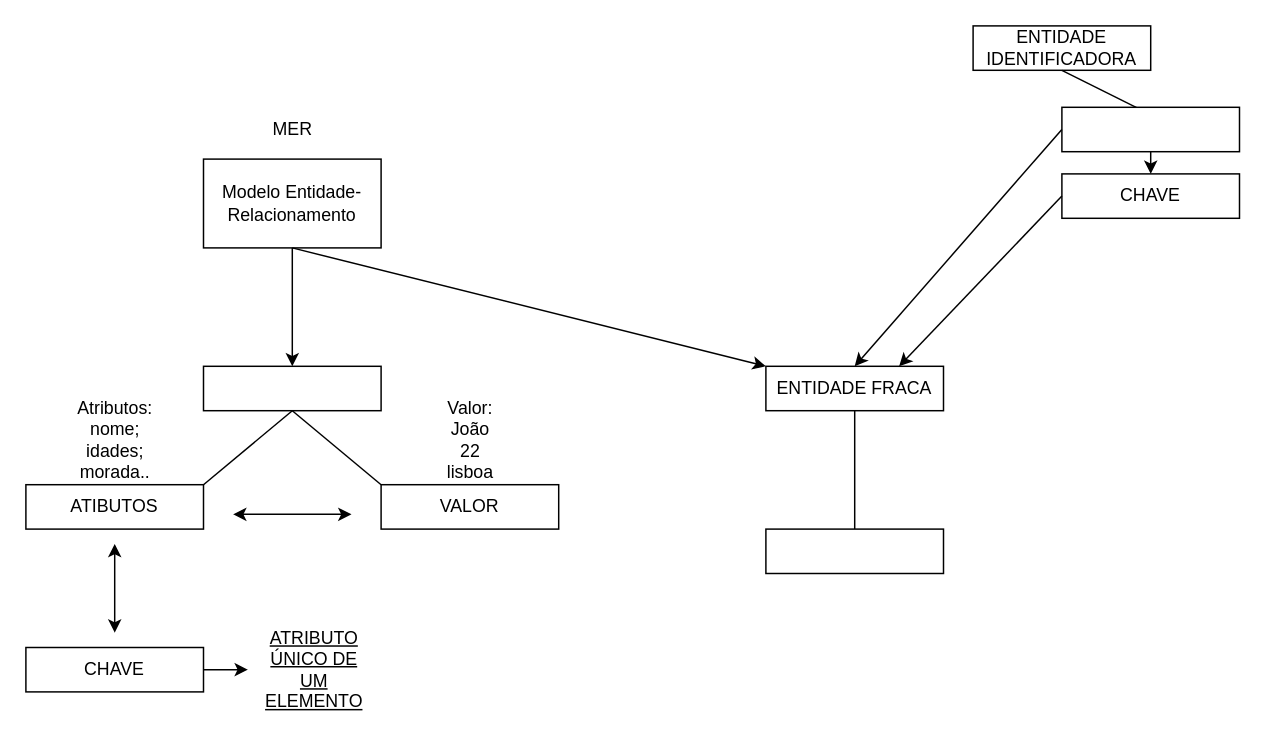
This 1265x739 diagram has some shape labels left out. Each missing label, with the box of its shape:
ATRIBUTOS: (1060, 106, 1240, 152)
CHAVE PARCIAL: (764, 528, 944, 574)
ENTIDADE: (202, 365, 381, 411)
